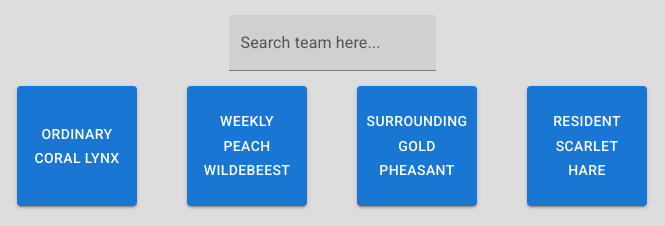
Test case: <TeamsOverview /> › should filter the teams
Expected: the text "Resident Scarlet Hare" is shown, top-left (553, 113), bottom-right (621, 178)
Type "Ordinary Coral Lynx" into the field labelled "Search team here..." at (332, 43), box top-left (228, 15), bottom-right (436, 71)
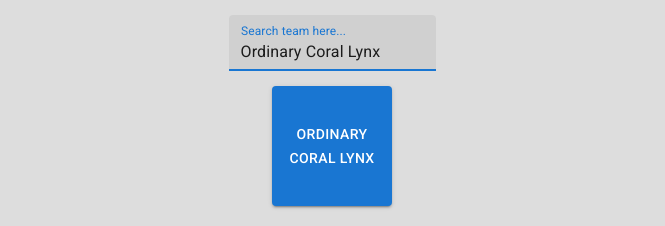
Expected: the number of buttons is 1, top-left (272, 86), bottom-right (392, 206)
